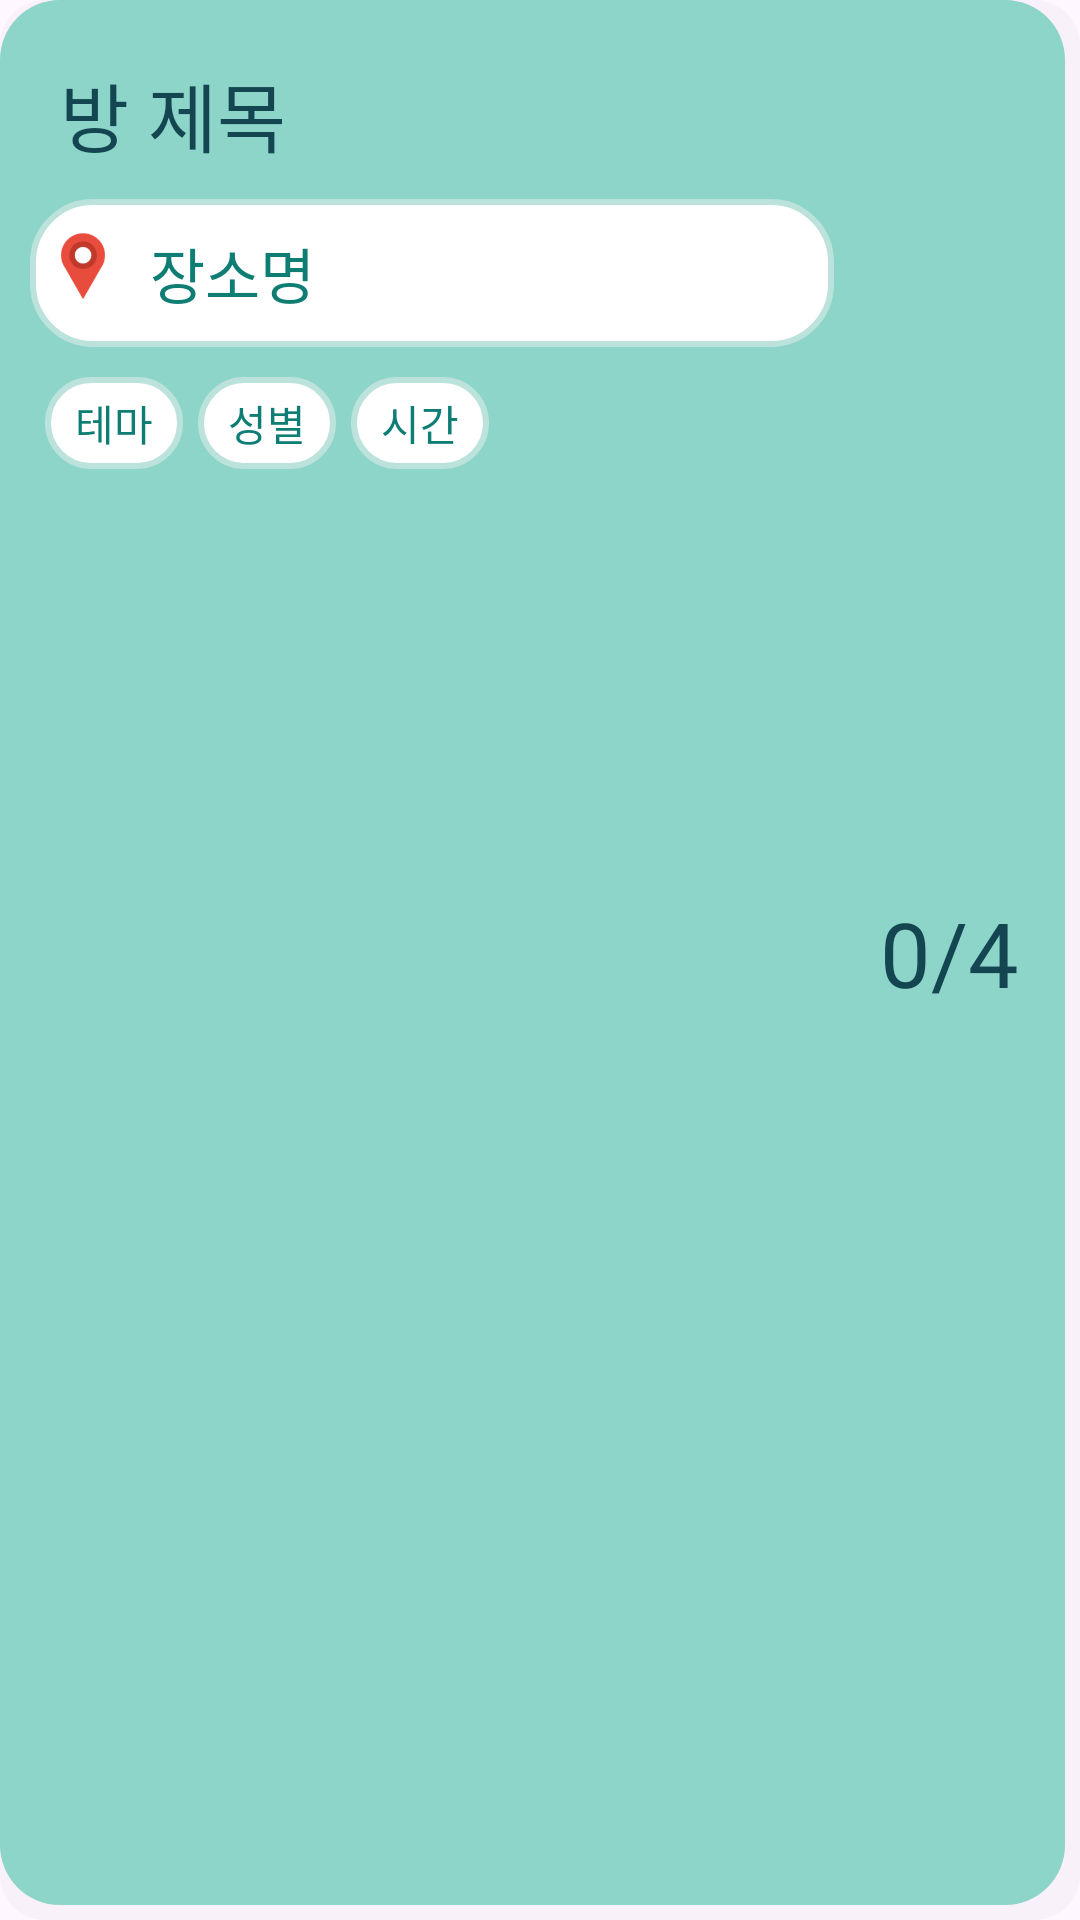

Icon click points for this 1080×1920 phone screenshot, format (x,y):
marker: (83,266)
